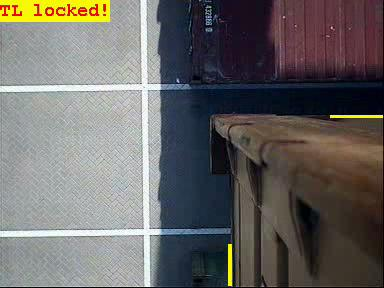groundmarker_2: (59, 172, 152, 216)
